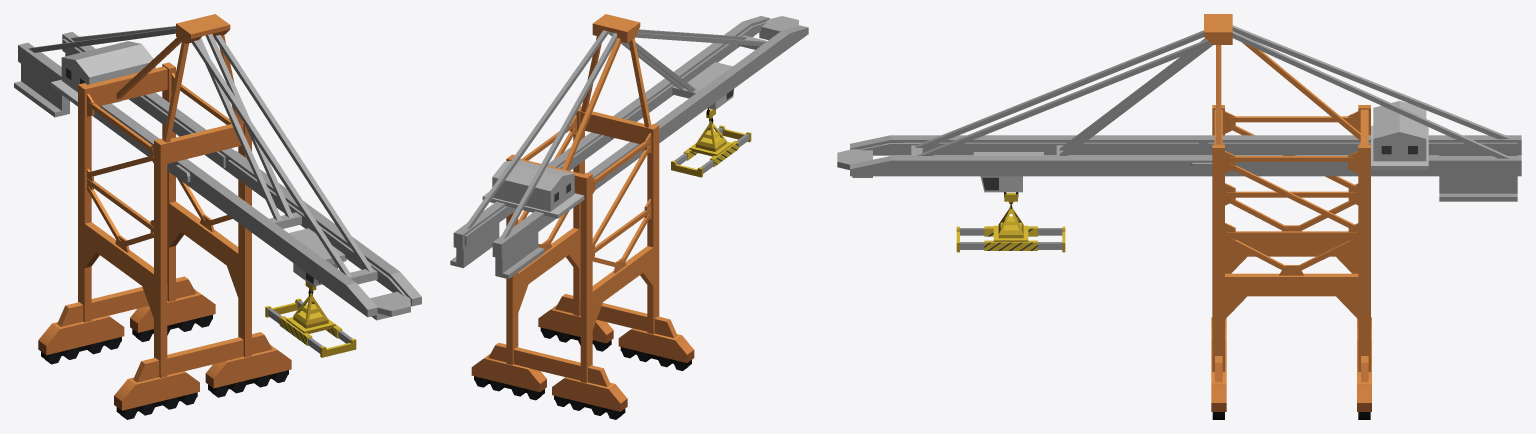
The model's file is Crane001.fbx.
The picture shows the model from 3 angles, left to right: view 1: azimuth 30°, elevation 25°; view 2: azimuth 150°, elevation 25°; view 3: azimuth 270°, elevation 25°; orthographic projection. The views are drawn at different scales.
Parts seen in each view (by area): view 1: diaoche1; view 2: diaoche1; view 3: diaoche1.
Boxes of the visible parts, <box> form: diaoche1: <box>14,14,421,419</box>; diaoche1: <box>450,14,808,419</box>; diaoche1: <box>837,14,1521,419</box>.
Bounding box in the file's own units: 612 × 1292 × 2227.
